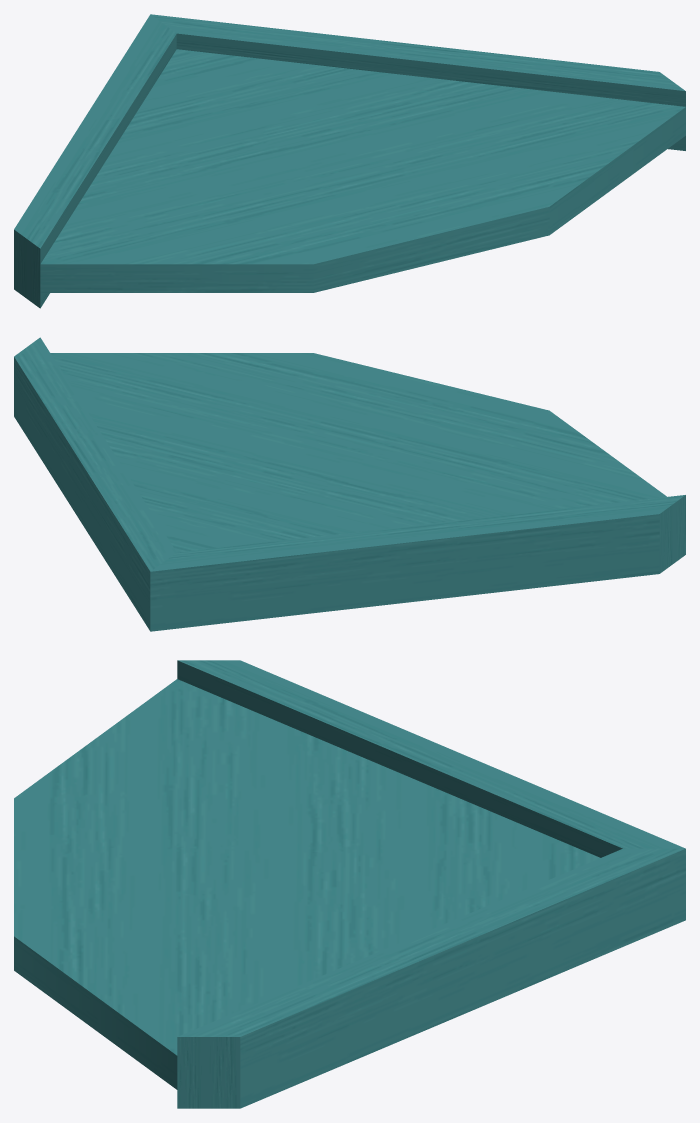
File: Corner_Shelving_B_09.FBX
The picture shows the model from 3 angles, top to bottom: view 1: azimuth 30°, elevation 25°; view 2: azimuth 150°, elevation 25°; view 3: azimuth 270°, elevation 25°; orthographic projection. The views are drawn at different scales.
Visible parts, largest first — view 1: Corner_Shelving_B; view 2: Corner_Shelving_B; view 3: Corner_Shelving_B.
Part boxes in pixels (<box>): Corner_Shelving_B: <box>14,14,685,308</box>; Corner_Shelving_B: <box>14,337,685,631</box>; Corner_Shelving_B: <box>14,660,685,1108</box>.
Bounding box in the file's own units: 141 × 12.55 × 107.
